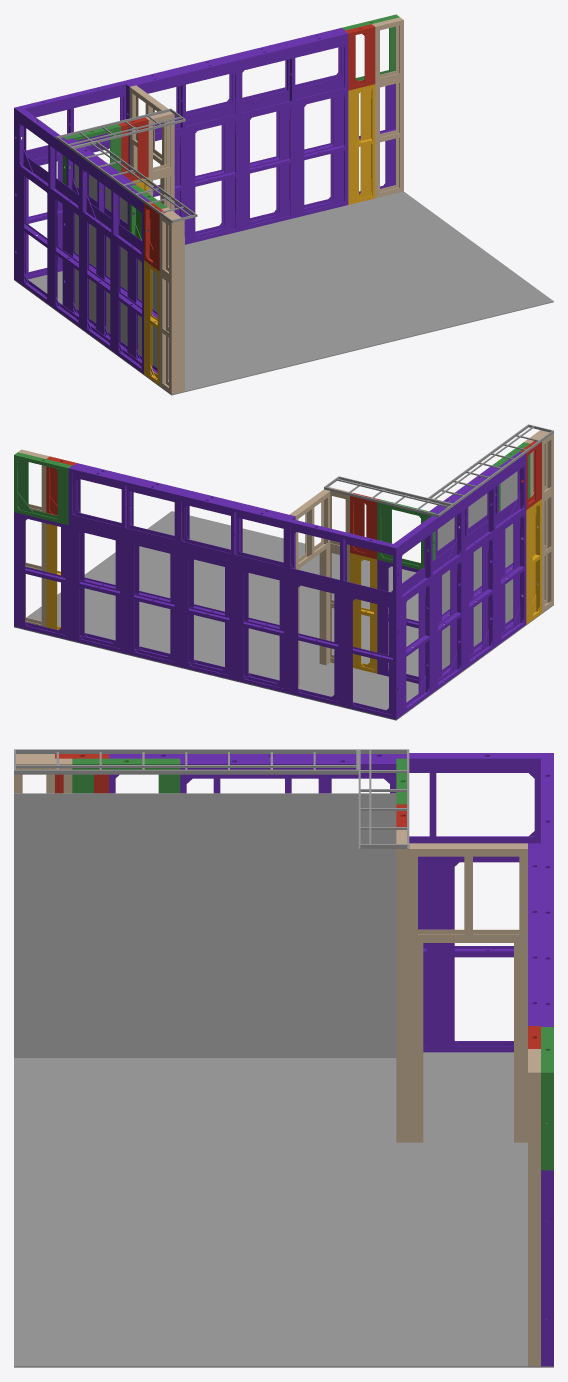
3 renders of one model, top to bottom at view 1: azimuth 30°, elevation 25°; view 2: azimuth 150°, elevation 25°; view 3: azimuth 270°, elevation 25°, orthographic. The views are drawn at different scales.
Visible parts, largest first — view 1: Пол 16 мм, Body18 (×15), Body17 (×8), Лист МДФ 1, Body23 (×3), Body2 (×2), Лист МДФ 2, Торец 2 (×2), Body22, Стойка 4, Стойка 2; view 2: Body18 (×26), Пол 16 мм, Body17 (×16), Body22 (×12), Body15 (×10), Body23 (×3), Лист МДФ 1, Лист МДФ 2, Body1 (×2), Труба 40x20x2 1 (×2), Труба 40x20x2 2 (×2), Body19 (+7 smaller); view 3: Пол 16 мм, Лист МДФ 2, Лист МДФ 1, Торец 2 (×4), Панель 2 (×2), Body15 (×5), Body16 (×4), Body17 (×2), Body18 (×3), Body23 (×3), Труба 40x20x2 2, Труба 40x20x2 1 (+5 smaller).
Boxes of the visible parts, box(x1,y1,x2,y2) form: Пол 16 мм: box(14, 191, 553, 395); Body18 (×15): box(17, 78, 395, 358); Body17 (×8): box(21, 34, 344, 250); Лист МДФ 1: box(75, 164, 125, 343); Body23 (×3): box(144, 91, 371, 375); Body2 (×2): box(137, 27, 375, 179); Лист МДФ 2: box(125, 201, 184, 390); Торец 2 (×2): box(172, 277, 183, 394); Body22: box(348, 91, 358, 201); Стойка 4: box(399, 81, 403, 187); Стойка 2: box(375, 87, 379, 193); Body18 (×26): box(14, 455, 524, 713); Пол 16 мм: box(14, 511, 553, 720); Body17 (×16): box(61, 466, 519, 713); Body22 (×12): box(65, 469, 526, 716); Body15 (×10): box(69, 463, 523, 718); Body23 (×3): box(46, 509, 532, 666); Лист МДФ 1: box(437, 497, 481, 669); Лист МДФ 2: box(481, 452, 533, 640); Body1 (×2): box(366, 442, 541, 559); Труба 40x20x2 1 (×2): box(324, 430, 553, 517); Труба 40x20x2 2 (×2): box(338, 424, 528, 506); Body19: box(57, 469, 68, 521); Пол 16 мм: box(14, 1052, 553, 1367); Лист МДФ 2: box(14, 793, 216, 1057); Лист МДФ 1: box(217, 793, 396, 1057); Торец 2 (×4): box(397, 849, 539, 1366); Панель 2 (×2): box(409, 943, 527, 1142); Body15 (×5): box(529, 753, 552, 1026); Body16 (×4): box(109, 753, 552, 1366); Body17 (×2): box(409, 836, 534, 1046); Body18 (×3): box(187, 753, 534, 1024); Body23 (×3): box(187, 758, 534, 1046); Труба 40x20x2 2: box(14, 769, 358, 774); Труба 40x20x2 1: box(14, 749, 358, 753).
Bounding box in the file's own units: 7 × 3.06 × 5.
